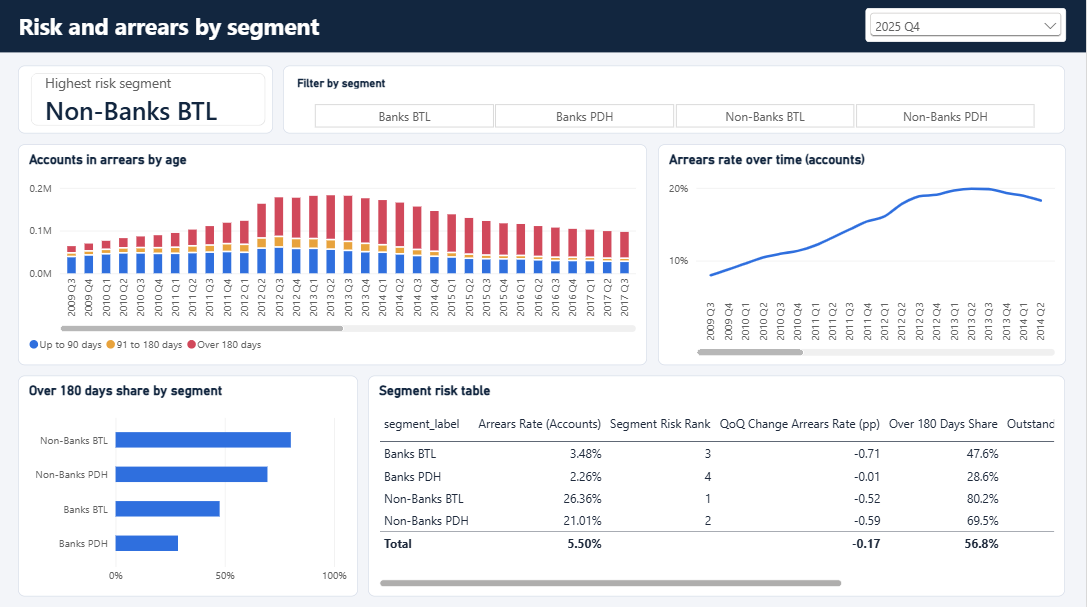

Layout of this report page (visuals, bound fields, positions):
{"tool":"powerbi","page":{"name":"Risk and arrears","canvas":[1280,720],"ordinal":1},"visuals":[{"type":"textbox","box":[0,0,1280,64],"z":0},{"type":"cardVisual","fields":{"Data":["_Measures.Highest Risk Segment"]},"box":[24,80,300,80],"z":1},{"type":"slicer","title":"Filter by segment","fields":{"Values":["dim_segment.segment_label"]},"box":[336,80,920,80],"z":2},{"type":"columnChart","title":"Accounts in arrears by age","fields":{"Category":["dim_date.quarter_label"],"Series":["dim_measure.harmonised_bucket"],"Y":["_Measures.Accounts in Arrears by Bucket"]},"box":[24,172,740,260],"z":3},{"type":"lineChart","title":"Arrears rate over time (accounts)","fields":{"Category":["dim_date.quarter_label"],"Y":["_Measures.Arrears Rate (Accounts)"]},"box":[776,172,480,260],"z":4},{"type":"clusteredBarChart","title":"Over 180 days share by segment","fields":{"Category":["dim_segment.segment_label"],"Y":["_Measures.Over 180 Days Share"]},"box":[24,444,400,260],"z":5},{"type":"tableEx","title":"Segment risk table","fields":{"Values":["dim_segment.segment_label","_Measures.Arrears Rate (Accounts)","_Measures.Segment Risk Rank","_Measures.QoQ Change Arrears Rate (pp)","_Measures.Over 180 Days Share","_Measures.Outstanding Balance (EUR bn)","_Measures.Share of Total Outstanding Balance"]},"box":[436,444,820,260],"z":6},{"type":"slicer","title":"Accounts in arrears by age","fields":{"Values":["dim_date.quarter_label"]},"box":[1020,12,236,40],"z":50}]}

Visuals, with their boxes in screenshot pixels (x1, y1, x2, y2), scaled from the page's 1280x720 canvas onto the 1087x607 screenshot:
textbox: bbox=[0, 0, 1086, 54]
cardVisual - _Measures.Highest Risk Segment: bbox=[20, 67, 275, 135]
"Filter by segment" slicer: bbox=[285, 67, 1067, 135]
"Accounts in arrears by age" columnChart: bbox=[20, 145, 649, 364]
"Arrears rate over time (accounts)" lineChart: bbox=[659, 145, 1067, 364]
"Over 180 days share by segment" clusteredBarChart: bbox=[20, 374, 360, 594]
"Segment risk table" tableEx: bbox=[370, 374, 1067, 594]
"Accounts in arrears by age" slicer: bbox=[866, 10, 1067, 44]
